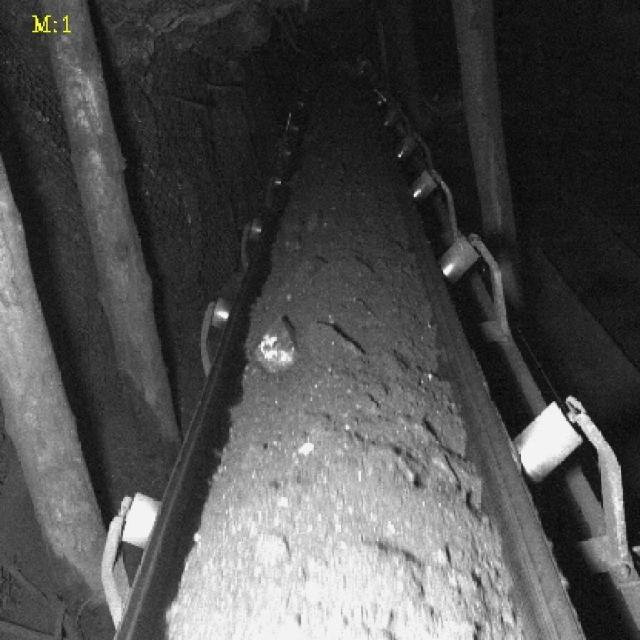large_sized_coal: (251, 318, 300, 372)
